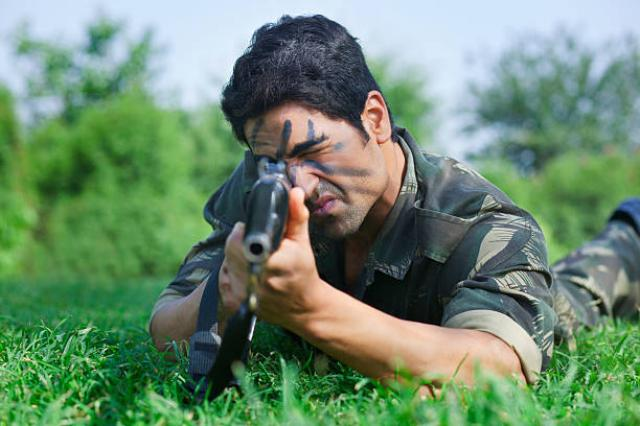other: (157, 9, 639, 351)
